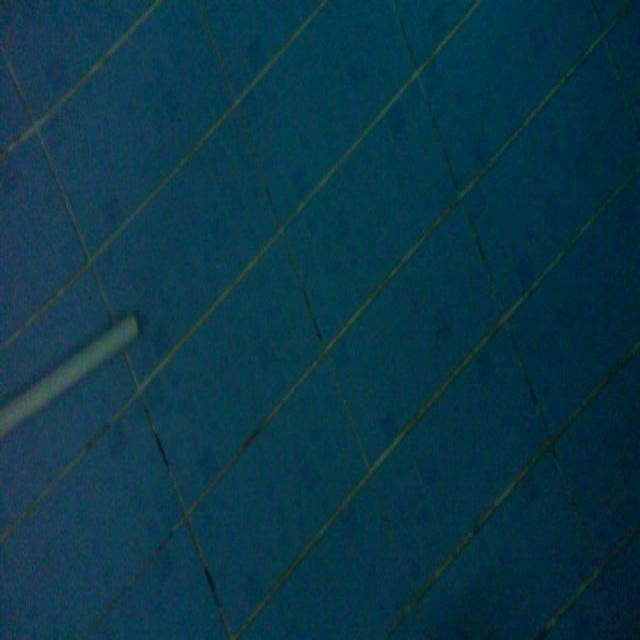Cube: (0, 308, 141, 444)
